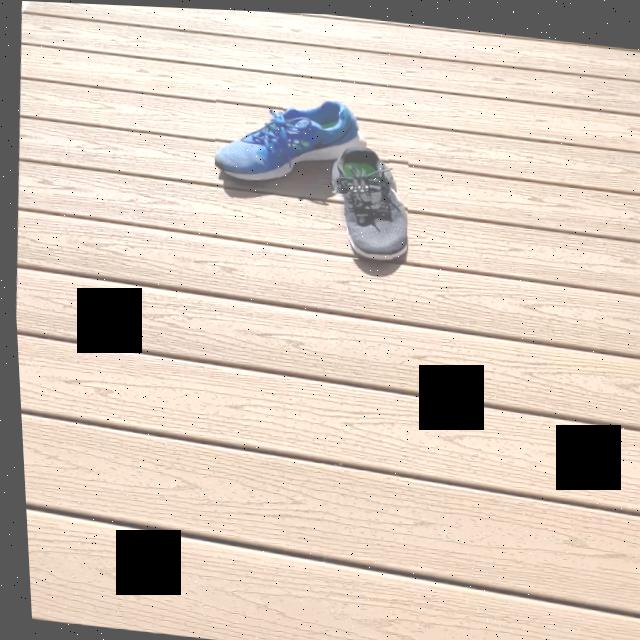shoe: (212, 99, 363, 181), (336, 146, 405, 257)
